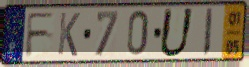0: (125, 9, 151, 59)
7: (95, 9, 121, 59)
F: (24, 10, 56, 59)
I: (201, 7, 215, 58)
K: (56, 10, 82, 58)
U: (157, 7, 196, 60)
